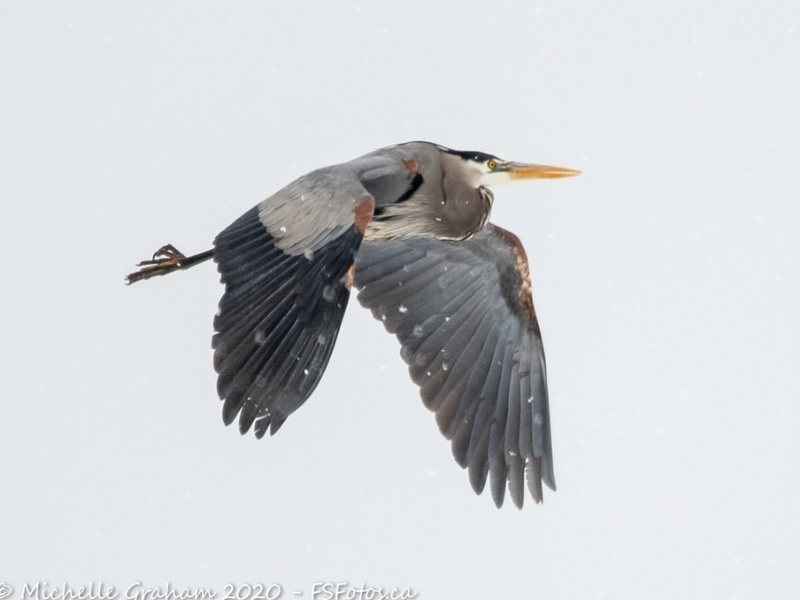heron: (118, 132, 597, 513)
